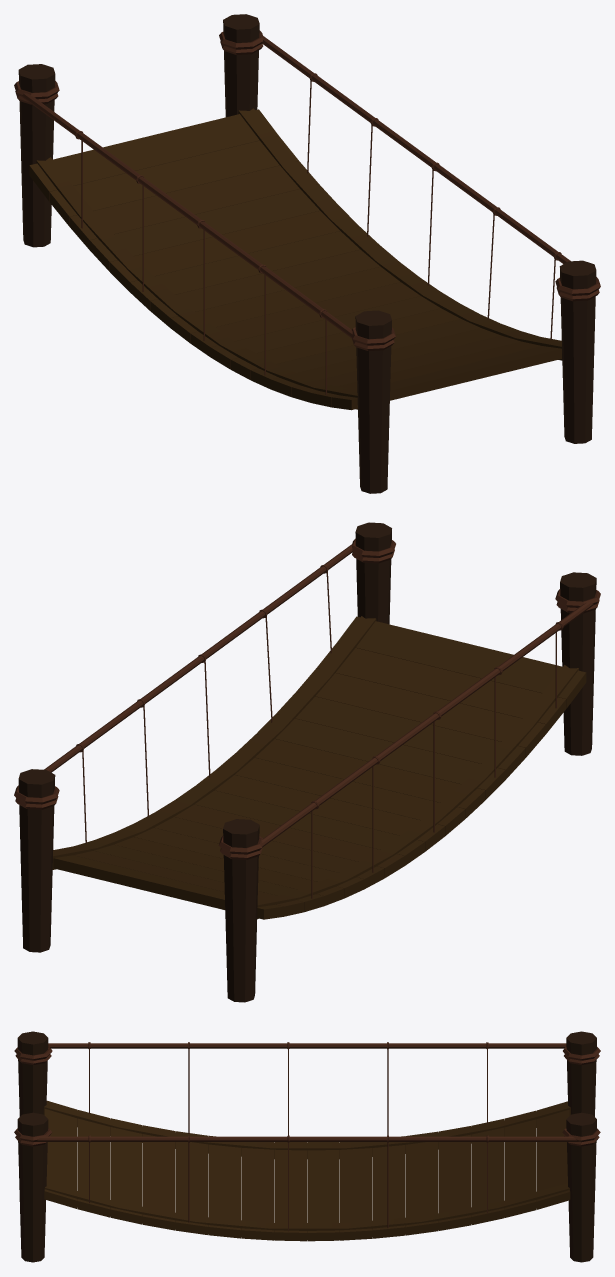
The model's file is bridge2.FBX.
The picture shows the model from 3 angles, top to bottom: view 1: azimuth 30°, elevation 25°; view 2: azimuth 150°, elevation 25°; view 3: azimuth 270°, elevation 25°; orthographic projection. The views are drawn at different scales.
Visible parts, largest first — view 1: bridge2; view 2: bridge2; view 3: bridge2.
Part boxes in pixels (x1=…): bridge2: x1=14, y1=14, x2=600, y2=493; bridge2: x1=14, y1=522, x2=600, y2=1002; bridge2: x1=14, y1=1031, x2=600, y2=1262.
Size of the model in its own units: 132 by 87.27 by 336.
